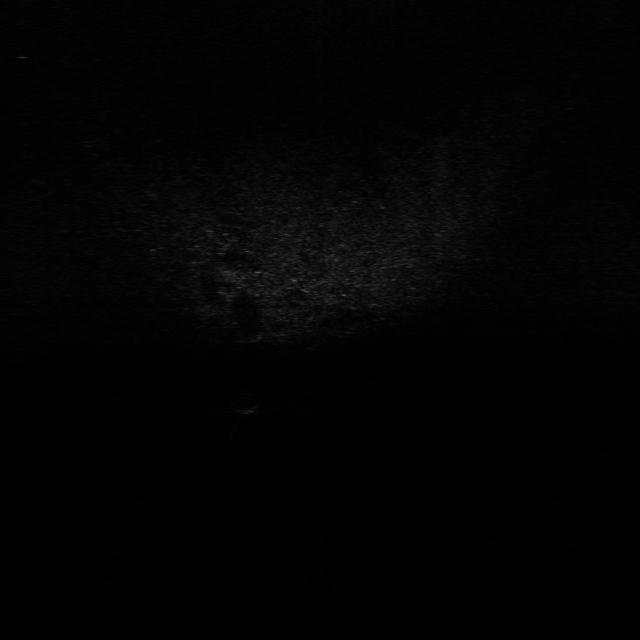ball: (226, 387, 266, 415)
